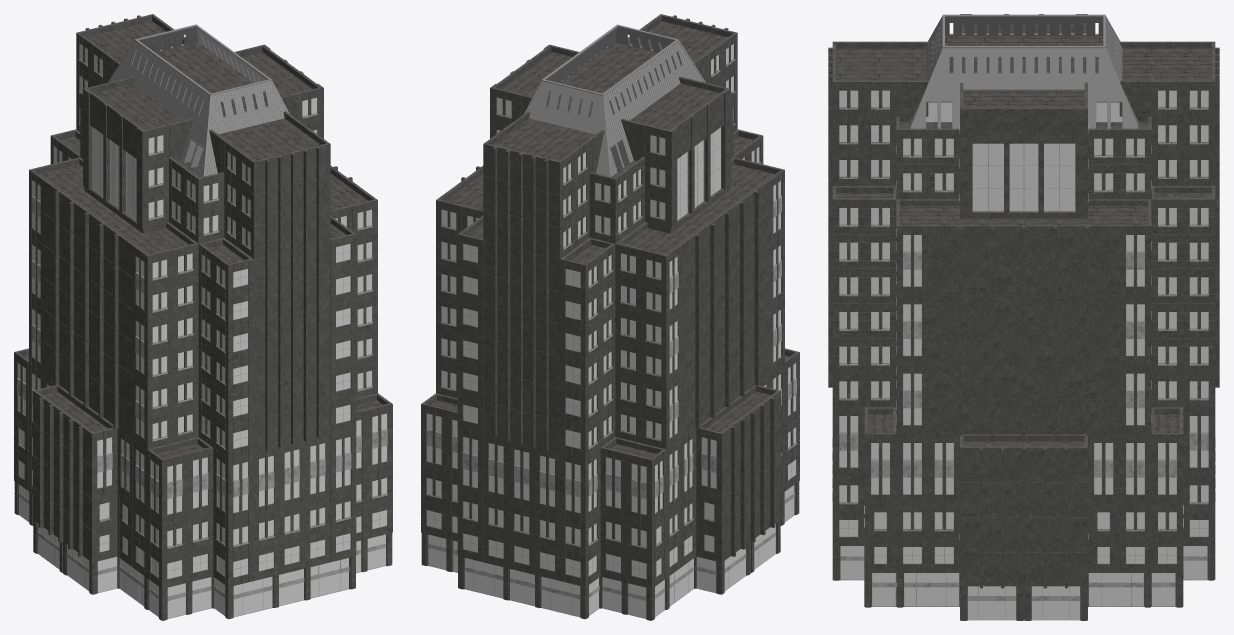
File: Building_34.fbx
The picture shows the model from 3 angles, left to right: view 1: azimuth 30°, elevation 25°; view 2: azimuth 150°, elevation 25°; view 3: azimuth 270°, elevation 25°; orthographic projection. The views are drawn at different scales.
Parts seen in each view (by area): view 1: Building_34_LOD0; view 2: Building_34_LOD0; view 3: Building_34_LOD0.
Boxes of the visible parts, bbox=[...] form: Building_34_LOD0: bbox=[14, 14, 392, 620]; Building_34_LOD0: bbox=[421, 14, 799, 620]; Building_34_LOD0: bbox=[828, 14, 1219, 620].
Size of what is drawn, in the model's own units: 3438 by 5449 by 3745.
